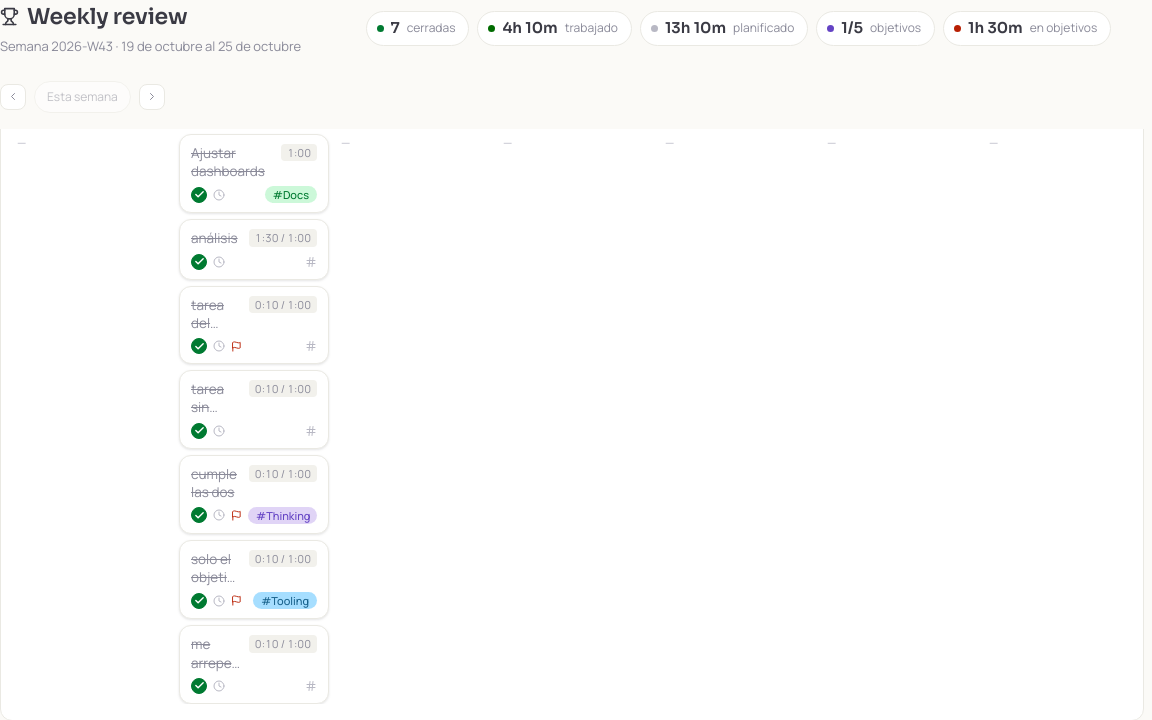
WeeklyReviewView › destildar desde el modal no lo hace desaparecer
(page scrolled)
Step 1. Click the text "me arrepentí" → x=216, y=654, box [191,635,241,672]
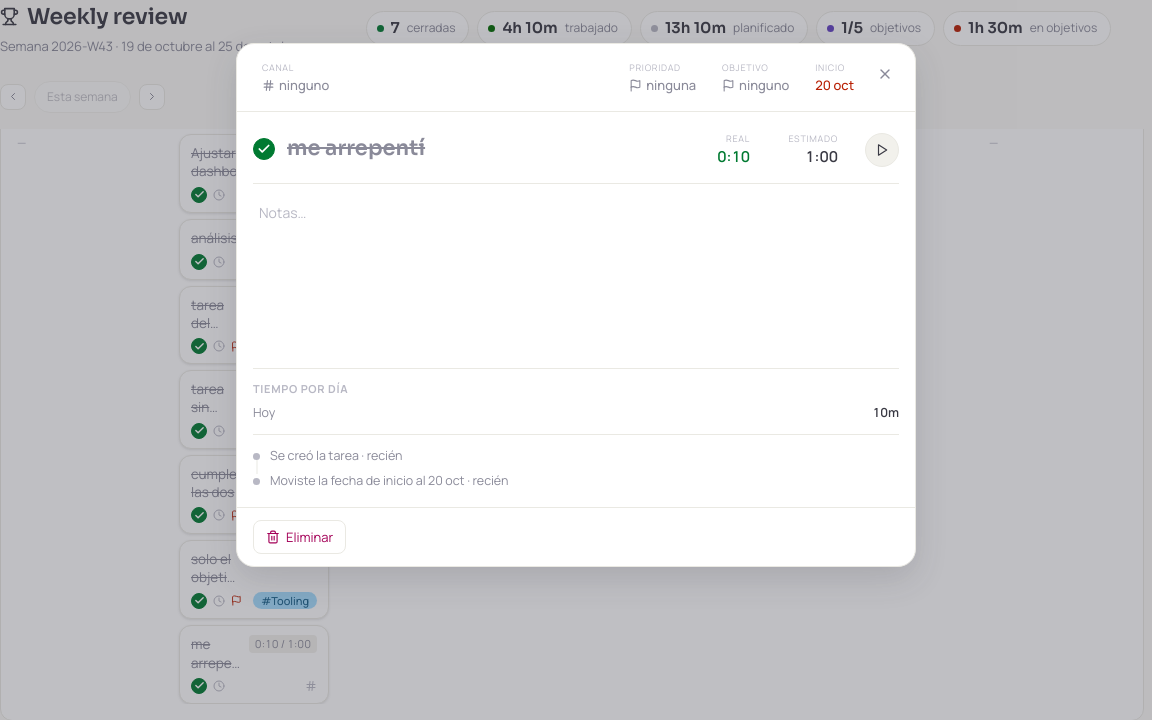
Step 2. Click the button named "Marcar como pendiente" → x=264, y=149, box [253,138,275,160]
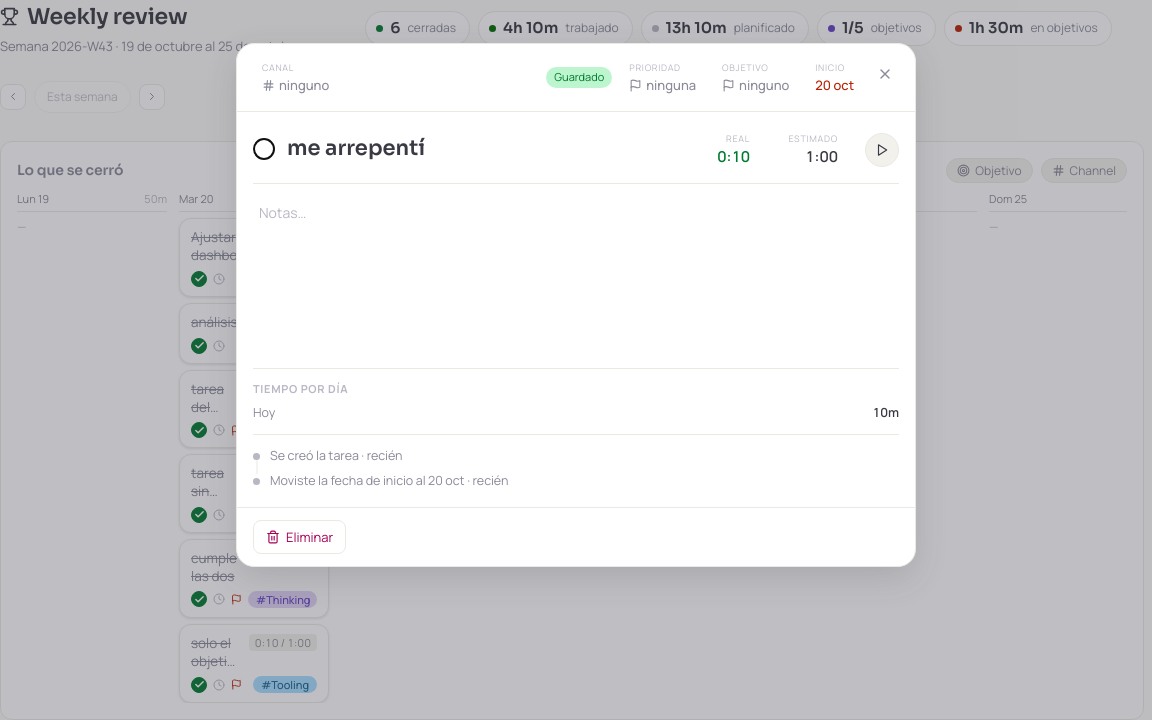
Expected: the dialog named "Detalle de tarea" is shown, [236,43,916,567]
Expected: the button named "Marcar como completada" is shown, [253,138,275,160]
